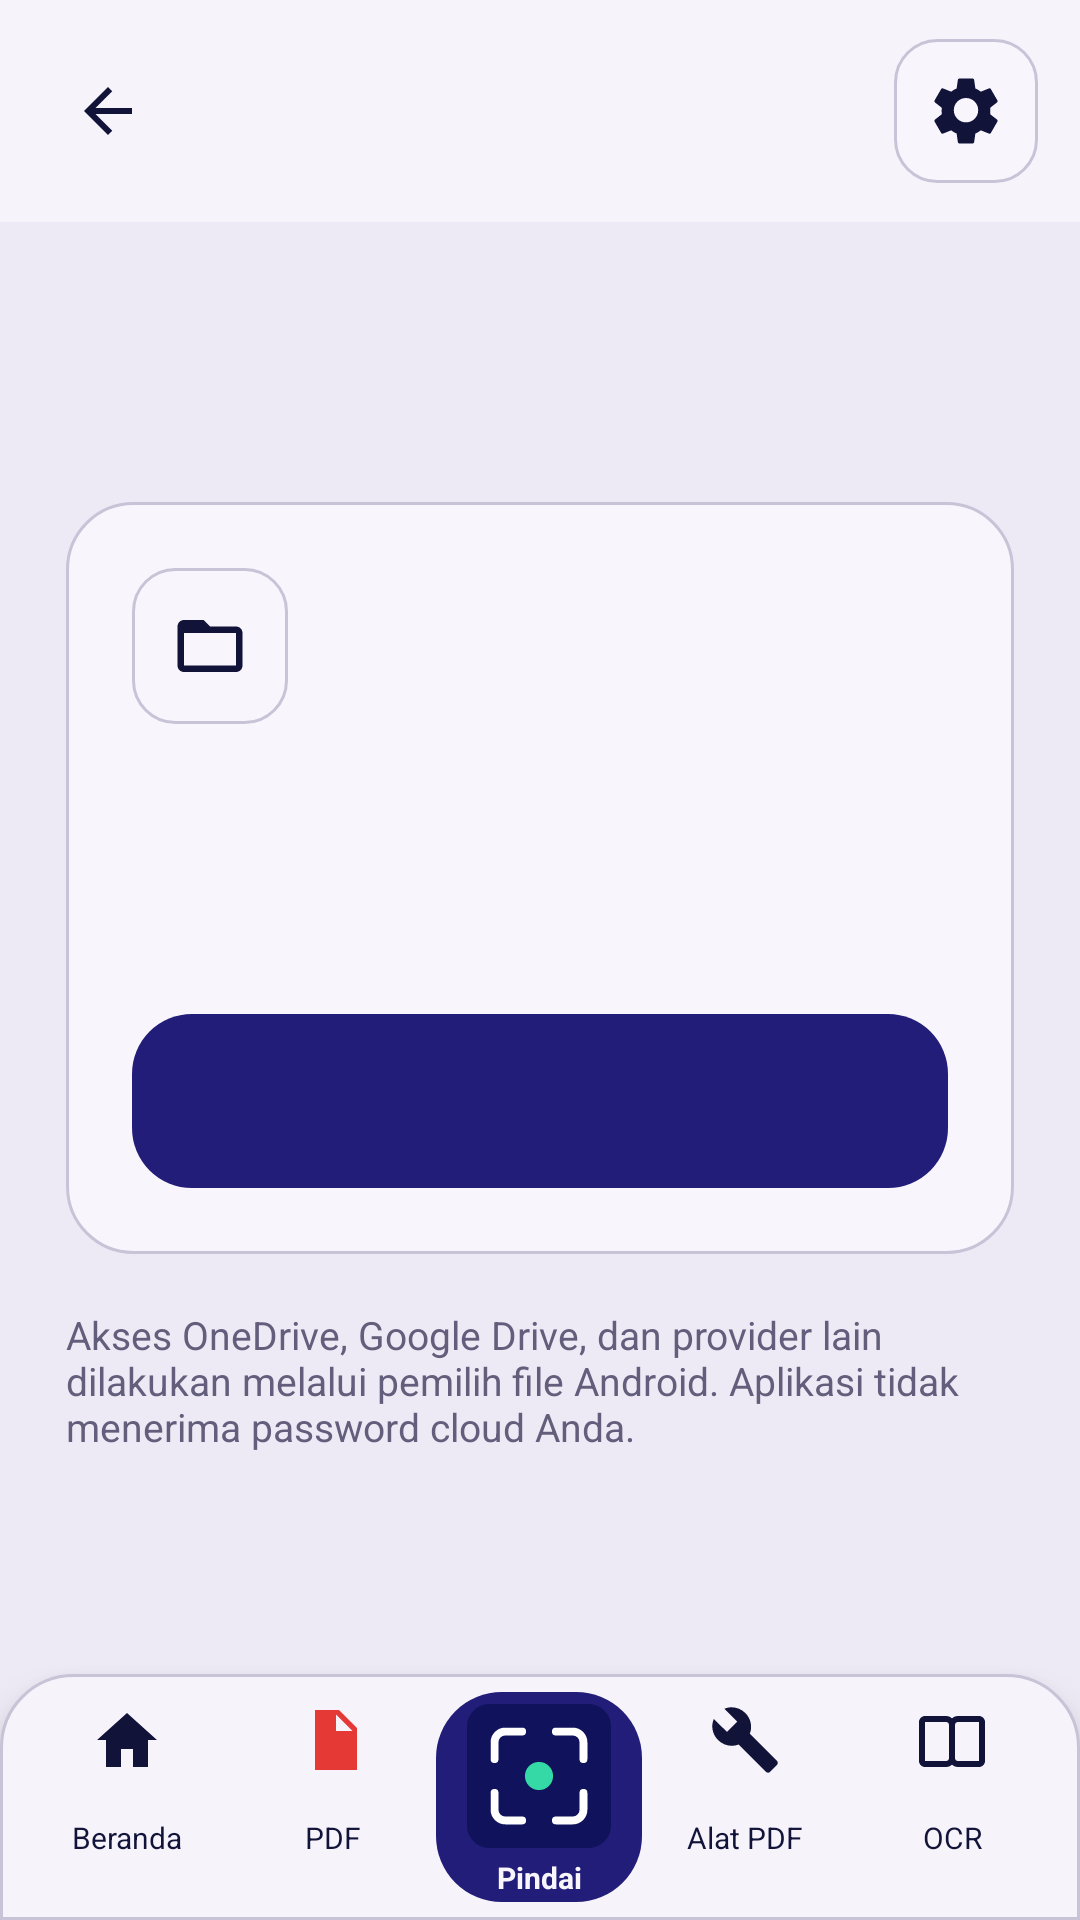

Screen size 1080px×1920px. Icon name, then its box in pixels as (x1, y1, x2, y2):
folder: (132, 568, 288, 724)
Kembali: (84, 87, 132, 135)
Pengaturan: (894, 39, 1038, 183)
